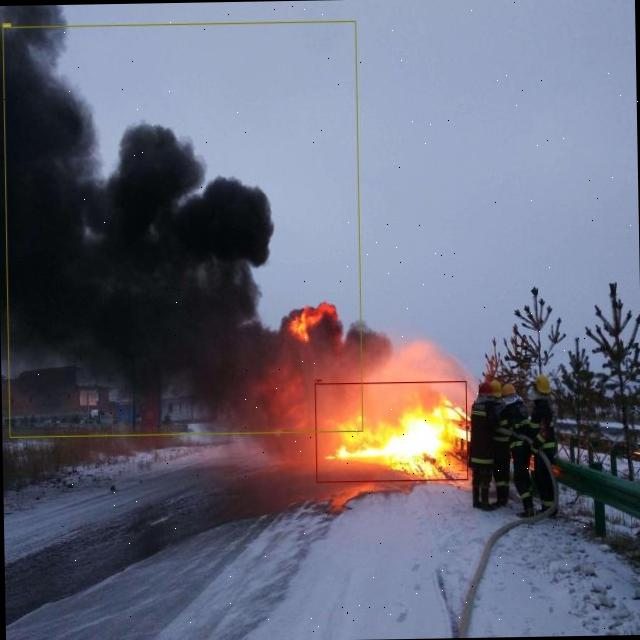fire: (314, 380, 468, 482)
smoke: (3, 20, 363, 438)
